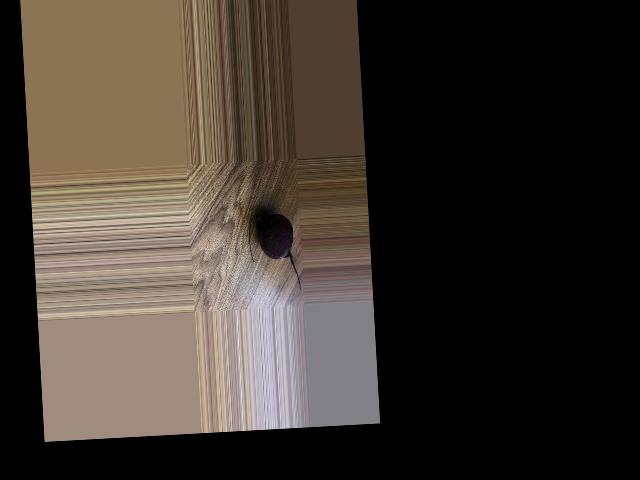beet: (248, 210, 301, 292)
